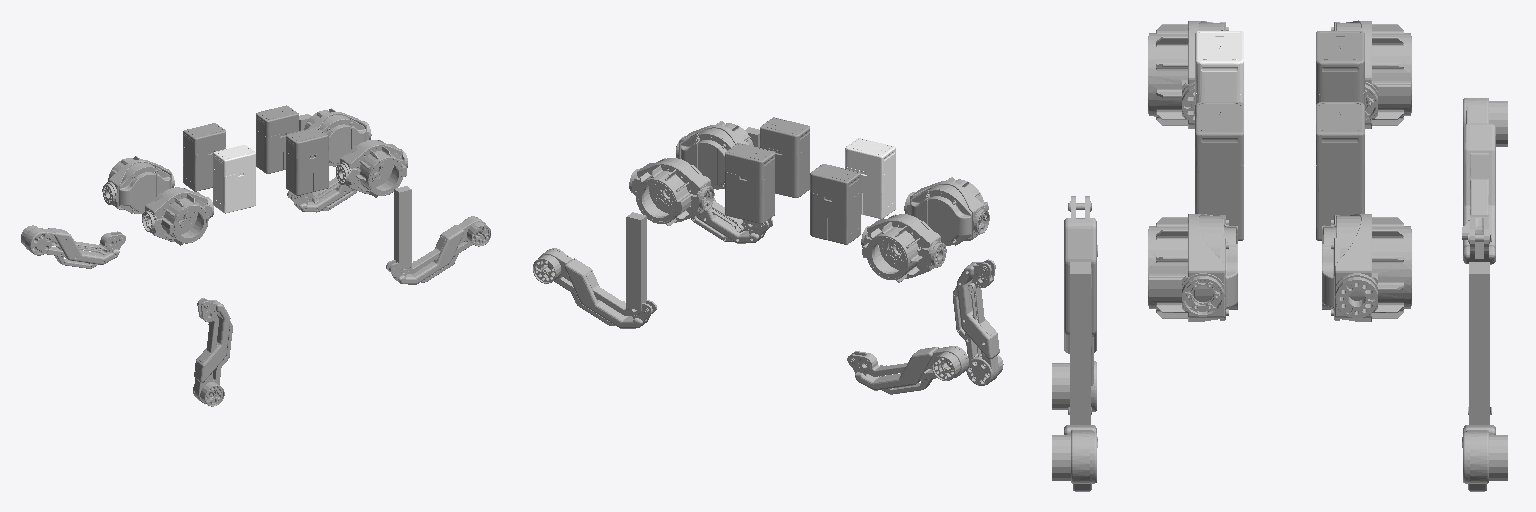
--- Facts derived from the render (not from the file) ---
The picture shows the robot from 3 angles, left to right: view 1: azimuth 30°, elevation 25°; view 2: azimuth 150°, elevation 25°; view 3: azimuth 270°, elevation 25°; orthographic projection.
Model titatit_robot_2 with 21 links and 20 joints (12 revolute, 8 fixed), rooted at base, posed joints at zero except 3 at the middle of their limits (FL_calf_joint = -1.81, FR_calf_joint = -1.81, RL_calf_joint = 1.81).
Visible links, largest first — view 1: FR_hip, RR_hip, RR_calf, RL_hip, FR_calf, RL_calf, FR_battery, RR_battery, FL_battery, RL_battery, FL_hip, FR_thigh (+1 smaller); view 2: RL_hip, FL_hip, RR_calf, RR_hip, FL_calf, RL_battery, RL_calf, FL_battery, RR_battery, FR_battery, FR_hip, FL_thigh (+1 smaller); view 3: FL_hip, FR_hip, RL_calf, FL_battery, FR_battery, RR_hip, RL_hip, RR_calf, RL_battery, RR_battery, FL_thigh, FR_thigh (+2 smaller).
Boxes of the visible links, left/top/right/bottom form: FR_hip: left=336, top=140, right=407, bottom=197; RR_hip: left=142, top=187, right=213, bottom=245; RR_calf: left=193, top=298, right=232, bottom=406; RL_hip: left=102, top=156, right=174, bottom=213; FR_calf: left=386, top=216, right=490, bottom=284; RL_calf: left=21, top=225, right=125, bottom=268; FR_battery: left=286, top=127, right=328, bottom=195; RR_battery: left=213, top=145, right=255, bottom=213; FL_battery: left=256, top=105, right=298, bottom=173; RL_battery: left=183, top=123, right=225, bottom=191; FL_hip: left=300, top=108, right=371, bottom=166; FR_thigh: left=394, top=186, right=411, bottom=269; RL_hip: left=861, top=214, right=946, bottom=282; FL_hip: left=629, top=158, right=714, bottom=225; RR_calf: left=953, top=259, right=1003, bottom=385; RR_hip: left=904, top=177, right=989, bottom=245; FL_calf: left=533, top=248, right=656, bottom=328; RL_battery: left=810, top=164, right=860, bottom=244; RL_calf: left=847, top=346, right=968, bottom=394; FL_battery: left=725, top=143, right=774, bottom=223; RR_battery: left=845, top=138, right=895, bottom=218; FR_battery: left=760, top=117, right=809, bottom=197; FR_hip: left=676, top=121, right=753, bottom=189; FL_thigh: left=626, top=212, right=646, bottom=310; FL_hip: left=1322, top=214, right=1411, bottom=321; FR_hip: left=1148, top=214, right=1237, bottom=321; RL_calf: left=1462, top=98, right=1507, bottom=264; FL_battery: left=1316, top=102, right=1364, bottom=240; FR_battery: left=1195, top=102, right=1243, bottom=240; RR_hip: left=1148, top=21, right=1228, bottom=128; RL_hip: left=1331, top=20, right=1411, bottom=128; RR_calf: left=1052, top=196, right=1097, bottom=411; RL_battery: left=1316, top=31, right=1364, bottom=104; RR_battery: left=1195, top=31, right=1243, bottom=104; FL_thigh: left=1469, top=262, right=1489, bottom=424; FR_thigh: left=1070, top=262, right=1090, bottom=424.
Size in the robot's own frame: 0.9799 by 0.5312 by 0.5448 metres.
12 mesh visuals loaded from 15 distinct referenced files (12 Collada DAE); not drawn: 3 (reference not matched to a file when rendering).

robot.urdf — titatit_robot_2:
<?xml version="1.0" encoding="utf-8"?>
<!-- This URDF was automatically created by SolidWorks to URDF Exporter! Originally created by Stephen Brawner ([email redacted]) 
     Commit Version: 1.6.0-4-g7f85cfe  Build Version: 1.6.7995.38578
     For more information, please see http://wiki.ros.org/sw_urdf_exporter -->
<robot
  name="titatit_robot_2">
  <link
    name="base">
    <inertial>
      <origin
        xyz="9.657E-05 4.946E-06 0.018311"
        rpy="0 0 0" />
      <mass
        value="26.085" />
      <inertia
        ixx="0.13241"
        ixy="-1.5238E-05"
        ixz="2.9159E-07"
        iyy="0.21427"
        iyz="3.83E-07"
        izz="0.29638" />
    </inertial>
    <visual>
      <origin
        xyz="0 0 0"
        rpy="0 0 0" />
      <geometry>
        <mesh
          filename="../meshes/dae/base.dae" />
      </geometry>
      <!-- <geometry>
        <box size="0.532 0.194 0.114"/>
      </geometry> -->
      <material
        name="">
        <color
          rgba="0.75294 0.75294 0.75294 1" />
      </material>
    </visual>
    <collision>
      <origin rpy="0 0 0" xyz="0 0 0"/>
      <geometry>
        <box size="0.532 0.194 0.114"/>
      </geometry>
    </collision>
  </link>
  <link
    name="FL_hip">
    <inertial>
        <origin xyz="0.00160252327437051 5.02529016259551E-05 0.000637997677409064" rpy="0 0 0" />
        <mass value="2.06397198838348" />
        <inertia ixx="0.0043043711277157" ixy="-1.3538484105872E-07" ixz="8.05398285601337E-05" iyy="0.00299819513265211" iyz="-1.54464162439579E-06" izz="0.00227034785673471" />
    </inertial>
    <visual>
      <origin
        xyz="0 0 0"
        rpy="1.57079632679 0 1.57079632679" />
      <geometry>
        <mesh
          filename="../meshes/dae/FL_hip.dae" />
      </geometry>
      <!-- <geometry>
        <box size="0.02 0.1426 0.02"/>
      </geometry> -->
      <material
        name="">
        <color
          rgba="0.752941176470588 0.752941176470588 0.752941176470588 1" />
      </material>
    </visual>
    <collision>
      <origin rpy="0 0 0" xyz="0 0.0713 0"/>
      <geometry>
        <box size="0.02 0.1426 0.02"/>
      </geometry>
    </collision>
  </link>
  <joint
    name="FL_hip_joint"
    type="revolute">
    <origin
      xyz="0.26556 0.0895 0"
      rpy="0 0 0" />
    <parent
      link="base" />
    <child
      link="FL_hip" />
    <axis
      xyz="1 0 0" />
<limit effort="100" lower="-0.8" upper="0.8" velocity="52.6"/>
  </joint>
  <link
    name="FL_thigh">
    <inertial>
        <origin xyz="0.00160252327437051 5.02529016259551E-05 0.000637997677409064" rpy="0 0 0" />
        <mass value="2.06397198838348" />
        <inertia ixx="0.0043043711277157" ixy="-1.3538484105872E-07" ixz="8.05398285601337E-05" iyy="0.00299819513265211" iyz="-1.54464162439579E-06" izz="0.00227034785673471" />
    </inertial>
    <visual>
      <origin rpy="0 1.57079632679 1.57079632679" xyz="0 0 0"/>
      <geometry>
        <mesh
          filename="../meshes/dae/FL_thigh.dae" />
      </geometry>
      <origin rpy="0 1.57079632679 0" xyz="0 0 -0.1"/>
      <geometry>
        <box size="0.2 0.0245 0.034"/>
      </geometry>
      <material
        name="">
        <color
          rgba="0.752941176470588 0.752941176470588 0.752941176470588 1" />
      </material>
    </visual>
    <collision>
      <origin rpy="0 1.57079632679 0" xyz="0 0 -0.1"/>
      <geometry>
        <box size="0.2 0.0245 0.034"/>
      </geometry>
    </collision>
  </link>
  <joint
    name="FL_thigh_joint"
    type="revolute">
    <origin rpy="0 0 0" xyz="0 0.1426 0"/>
    <parent link="FL_hip"/>
    <child link="FL_thigh"/>
    <axis xyz="0 1 0"/>
    <dynamics damping="0" friction="0"/>
    <limit effort="100" lower="-1.0471975512" upper="4.18879020479" velocity="28.6"/>
  </joint>
  <link
    name="FL_calf">
    <inertial>
      <origin xyz="0.00183801243684462 0.0116984049286687 -0.0953484729967358 " rpy="0 0 0" />
      <mass value="0.572442933713084" />
      <inertia izz="0.000305949337207612" iyz="0.000355368616376005" ixz="-0.000117644209339197" iyy="0.00320088994828871" ixy="1.12898419970661E-05" ixx="0.00342088883166828" />
    </inertial>
    <visual>
      <origin rpy="0 1.57079632679 1.57079632679" xyz="0 0 0"/>
      <geometry>
        <mesh
          filename="../meshes/dae/FL_calf.dae" />
      </geometry>
      <!-- <origin rpy="0 1.57079632679 0" xyz="0 0 -0.1"/>
      <geometry>
        <box size="0.2 0.016 0.016"/>
      </geometry> -->
      <material
        name="">
        <color
          rgba="0.752941176470588 0.752941176470588 0.752941176470588 1" />
      </material>
    </visual>
    <collision>
      <origin rpy="0 1.57079632679 0" xyz="0 0 -0.1"/>
      <geometry>
        <box size="0.2 0.016 0.016"/>
      </geometry>
    </collision>
  </link>
  <joint
    name="FL_calf_joint"
    type="revolute">
    <origin rpy="0 0 0" xyz="0 0 -0.2"/>
    <parent link="FL_thigh"/>
    <child link="FL_calf"/>
    <axis xyz="0 1 0"/>
    <dynamics damping="0" friction="0"/>
    <limit effort="100" lower="-2.69653369433" upper="-0.916297857297" velocity="28.6"/>
  </joint>
  <link
    name="FL_foot">
    <inertial>
      <origin
        xyz="0 0 0"
        rpy="0 0 0" />
      <mass
        value="0.004" />
      <inertia ixx="2.4e-05" ixy="0.0" ixz="0.0" iyy="2.4e-05" iyz="0.0" izz="2.4e-05"/>
    </inertial>
    <visual>
      <origin
        xyz="0 0 0"
        rpy="0 0 0" />
      <!-- <geometry>
        <mesh
          filename="../meshes/dae/FL_foot.dae" />
      </geometry> -->
      <geometry>
        <sphere radius="0.01"/>
      </geometry>
      <material
        name="">
        <color
          rgba="0.698039215686274 0.698039215686274 0.698039215686274 1" />
      </material>
    </visual>
    <collision>
      <origin rpy="0 0 0" xyz="0 0 0"/>
      <geometry>
        <sphere radius="0.02"/>
      </geometry>
    </collision>
  </link>
  <joint
    name="FL_foot_joint"
    type="fixed" dont_collapse="true">
    <origin
      xyz="0 0 -0.2"
      rpy="0 0 0" />
    <parent
      link="FL_calf" />
    <child
      link="FL_foot" />
    <axis
      xyz="0 0 -1" />
  </joint>
    <!-- <joint name="foot_joint_fl" type="fixed" dont_collapse="true">
    <origin rpy="0 0 -0.87266" xyz="0.2 0 0.0514"/>
    <parent link="FL_calf"/>
    <child link="FL_foot"/> -->
  <!-- </joint> -->
  <link
    name="FR_hip">
    <inertial>
      <origin xyz="0.00160252297910093 -5.02528763268312E-05 0.000638012238108419" rpy="0 0 0" />
      <mass value="2.06397190555531" />
      <inertia ixx="0.00430437092985315" ixy="1.35380384225143E-07" ixz="8.05396951733295E-05" iyy="0.00299819494811765" iyz="1.53586089418605E-06" izz="0.00227034789019073" />
    </inertial>
    <visual>
      <origin rpy="1.57079632679 0 -1.57079632679" xyz="0 0 0"/>
      <geometry>
        <mesh
          filename="../meshes/dae/FR_hip.dae" />
      </geometry>
      <!-- <origin rpy="0 0 0" xyz="0 -0.0713 0"/>
      <geometry>
        <box size="0.02 0.1426 0.02"/>
      </geometry> -->
      <material
        name="">
        <color
          rgba="0.752941176470588 0.752941176470588 0.752941176470588 1" />
      </material>
    </visual>
    <collision>
      <origin rpy="0 0 0" xyz="0 -0.0713 0"/>
      <geometry>
        <box size="0.02 0.1426 0.02"/>
      </geometry>
    </collision>
  </link>
  <joint
    name="FR_hip_joint"
    type="revolute">
    <origin
      xyz="0.26556 -0.0895 0"
      rpy="0 0 0" />
    <parent
      link="base" />
    <child
      link="FR_hip" />
    <axis
      xyz="1 0 0" />
<limit effort="100" lower="-0.8" upper="0.8" velocity="52.6"/>
  </joint>
  <link
    name="FR_thigh">
    <inertial>
        <origin xyz="0.0198087014081886 -0.000674482855501034 -0.0280301093531328" rpy="0 0 0" />
        <mass value="3.08319251948682" />
        <inertia ixx="0.00295324326282497" ixy="0.000104319176394184" ixz="8.03836095808116E-05" iyy="0.00650084021284014" iyz="-9.51221262655706E-06" izz="0.00882715494821773" />
    </inertial>
    <visual>
      <origin rpy="0 1.57079632679 -1.57079632679" xyz="0 0 0"/>
      <geometry>
        <mesh
          filename="../meshes/dae/FR_thigh.dae" />
      </geometry>
      <origin rpy="0 1.57079632679 0" xyz="0 0 -0.1"/>
      <geometry>
        <box size="0.2 0.0245 0.034"/>
      </geometry>
      <material
        name="">
        <color
          rgba="0.752941176470588 0.752941176470588 0.752941176470588 1" />
      </material>
    </visual>
    <collision>
      <origin rpy="0 1.57079632679 0" xyz="0 0 -0.1"/>
      <geometry>
        <box size="0.2 0.0245 0.034"/>
      </geometry>
    </collision>
  </link>
  <joint
    name="FR_thigh_joint"
    type="revolute">
    <origin rpy="0 0 0" xyz="0 -0.1426 0"/>
    <parent link="FR_hip"/>
    <child link="FR_thigh"/>
    <axis xyz="0 1 0"/>
    <dynamics damping="0" friction="0"/>
    <limit effort="100" lower="-1.0471975512" upper="4.18879020479" velocity="28.6"/>
  </joint>
  <link
    name="FR_calf">
    <inertial>
      <origin xyz="0.00183801243684462 -0.0116984049286687 -0.0953484729967358" rpy="0 0 0" />
      <mass value="0.572442933713084" />
      <inertia izz="0.000305949337207612" iyz="-0.000355368616376005" ixz="-0.000117644209339197" iyy="0.00320088994828871" ixy="-1.12898419970661E-05" ixx="0.00342088883166828" />
    </inertial>
    <visual>

      <origin rpy="0 1.57079632679 -1.57079632679" xyz="0 0 0"/>

      <geometry>
        <mesh
          filename="../meshes/dae/FR_calf.dae" />
      </geometry>
      <!-- <origin rpy="0 1.57079632679 0" xyz="0 0 -0.1"/>
      <geometry>
        <box size="0.2 0.016 0.016"/>
      </geometry> -->
      <material
        name="">
        <color
          rgba="0.752941176470588 0.752941176470588 0.752941176470588 1" />
      </material>
    </visual>
    <collision>
      <origin rpy="0 1.57079632679 0" xyz="0 0 -0.1"/>
      <geometry>
        <box size="0.2 0.016 0.016"/>
      </geometry>
    </collision>
  </link>
  <joint
    name="FR_calf_joint"
    type="revolute">
    <origin rpy="0 0 0" xyz="0 0 -0.2"/>
    <parent link="FR_thigh"/>
    <child link="FR_calf"/>
    <axis xyz="0 1 0"/>
    <dynamics damping="0" friction="0"/>
    <limit effort="100" lower="-2.69653369433" upper="-0.916297857297" velocity="28.6"/>
  </joint>
  <link
    name="FR_foot">
    <inertial>
      <origin
        xyz="-3.1517325252417E-07 2.84212870238498E-06 -0.000955954818488869"
        rpy="0 0 0" />
      <mass
        value="0.004" />
      <inertia ixx="2.4e-05" ixy="0.0" ixz="0.0" iyy="2.4e-05" iyz="0.0" izz="2.4e-05"/>
    </inertial>
    <visual>
      <origin
        xyz="0 0 0"
        rpy="0 0 0" />
      <!-- <geometry>
        <mesh
          filename="../meshes/dae/FR_foot.dae" />
      </geometry> -->
      <geometry>
        <sphere radius="0.01"/>
      </geometry>
      <material
        name="">
        <color
          rgba="0.698039215686274 0.698039215686274 0.698039215686274 1" />
      </material>
    </visual>
    <collision>
      <origin rpy="0 0 0" xyz="0 0 0"/>
      <geometry>
        <sphere radius="0.02"/>
      </geometry>
    </collision>
  </link>
  <joint
    name="FR_foot_joint"
    type="fixed" dont_collapse="true">
    <origin
      xyz="0 0 -0.2"
      rpy="0 0 0" />
    <parent
      link="FR_calf" />
    <child
      link="FR_foot" />
    <axis
      xyz="0 0 -1" />
  </joint>
      <!-- <joint name="foot_joint_fr" type="fixed" dont_collapse="true">
    <origin rpy="0 0 -0.87266" xyz="0.2 0 0.0514"/>
    <parent link="FR_calf"/>
    <child link="FR_foot"/>
  </joint> -->
  <link
    name="RL_hip">
    <inertial>
        <origin xyz="-0.00160252327437051 5.02529016259551E-05 0.000637997677409064" rpy="0 0 0" />
        <mass value="2.06397198838348" />
        <inertia ixx="0.0043043711277157" ixy="1.3538484105872E-07" ixz="-8.05398285601337E-05" iyy="0.00299819513265211" iyz="-1.54464162439579E-06" izz="0.00227034785673471" />
    </inertial>
    <visual>
      <origin
        xyz="0 0 0"
        rpy="1.57079632679 0 1.57079632679" />
      <geometry>
        <mesh
          filename="../meshes/dae/RL_hip.dae" />
      </geometry>
      <!-- <origin rpy="0 3.14159265359 0" xyz="0 0.0713 0"/>
      <geometry>
        <box size="0.02 0.1426 0.02"/>
      </geometry> -->
      <material
        name="">
        <color
          rgba="0.752941176470588 0.752941176470588 0.752941176470588 1" />
      </material>
    </visual>
    <collision>
      <origin rpy="0 3.14159265359 0" xyz="0 0.0713 0"/>
      <geometry>
        <box size="0.02 0.1426 0.02"/>
      </geometry>
    </collision>
  </link>
  <joint
    name="RL_hip_joint"
    type="revolute">
    <origin rpy="0 0 0" xyz="-0.26556 0.0895 0"/>
    <parent link="base"/>
    <child link="RL_hip"/>
    <axis xyz="1 0 0"/>
    <dynamics damping="0" friction="0"/>
    <limit effort="100" lower="-0.802851455917" upper="0.802851455917" velocity="52.4"/>
  </joint>
  <link
    name="RL_thigh">
    <inertial>
        <origin xyz="-0.0198087947770108 0.000674375301071346 -0.028030071953166" rpy="0 0 0" />
        <mass value="3.08318468505764" />
        <inertia ixx="0.00295323073173288" ixy="0.000104303195974061" ixz="-8.03870095692775E-05" iyy="0.00650084806449413" iyz="9.51050169384557E-06" izz="0.00882715478563661" />
    </inertial>
    <visual>
      <origin rpy="0 1.57079632679 1.57079632679" xyz="0 0 0"/>

      <geometry>
        <mesh
          filename="../meshes/dae/RL_thigh.dae" />
      </geometry>
      <!-- <origin rpy="0 1.57079632679 0" xyz="0 0 -0.1"/>
      <geometry>
        <box size="0.2 0.0245 0.034"/>
      </geometry> -->
      <material
        name="">
        <color
          rgba="0.752941176470588 0.752941176470588 0.752941176470588 1" />
      </material>
    </visual>
    <collision>
      <origin rpy="0 1.57079632679 0" xyz="0 0 -0.1"/>
      <geometry>
        <box size="0.2 0.0245 0.034"/>
      </geometry>
    </collision>
  </link>
  <joint
    name="RL_thigh_joint"
    type="revolute">
    <origin rpy="0 0 0" xyz="0 0.1426 0"/>
    <parent link="RL_hip"/>
    <child link="RL_thigh"/>
    <axis xyz="0 1 0"/>
    <dynamics damping="0" friction="0"/>
    <!-- <limit effort="100" lower="-1.0471975512" upper="4.18879020479" velocity="28.6"/> -->
    <limit effort="100" lower="-4.18879020479" upper="1.0471975512" velocity="28.6"/>
  </joint>
  <link
    name="RL_calf">
    <inertial>
        <origin xyz="-0.00183801243684462 0.0116984049286687 -0.0953484729967358" rpy="0 0 0" />
        <mass value="0.572442933713084" />
        <inertia izz="0.000305949337207612" iyz="0.000355368616376005" ixz="0.000117644209339197" iyy="0.00320088994828871" ixy="-1.12898419970661E-05" ixx="0.00342088883166828" />
    </inertial>
    <visual>
      <origin rpy="0 1.57079632679 1.57079632679" xyz="0 0 0"/>

      <geometry>
        <mesh
          filename="../meshes/dae/RL_calf.dae" />
      </geometry>

      <!-- <origin rpy="0 1.57079632679 0" xyz="0 0 -0.1"/>
      <geometry>
        <box size="0.2 0.016 0.016"/>
      </geometry> -->
      <material
        name="">
        <color
          rgba="0.752941176470588 0.752941176470588 0.752941176470588 1" />
      </material>
    </visual>
    <collision>
      <origin rpy="0 1.57079632679 0" xyz="0 0 -0.1"/>
      <geometry>
        <box size="0.2 0.016 0.016"/>
      </geometry>
    </collision>
  </link>
  <joint
    name="RL_calf_joint"
    type="revolute">
    <origin rpy="0 0 0" xyz="0 0 -0.2"/>
    <parent link="RL_thigh"/>
    <child link="RL_calf"/>
    <axis xyz="0 1 0"/>
    <dynamics damping="0" friction="0"/>
    <!-- <limit effort="100" lower="-2.69653369433" upper="-0.916297857297" velocity="28.6"/> -->
    <limit effort="100" lower="0.916297857297" upper="2.69653369433" velocity="28.6"/>
  </joint>
  <link
    name="RL_foot">
    <inertial>
      <origin
        xyz="3.15173430132099E-07 -2.84212862960986E-06 -0.000955954818523563"
        rpy="0 0 0" />
      <mass
        value="0.004" />
      <inertia ixx="2.4e-05" ixy="0.0" ixz="0.0" iyy="2.4e-05" iyz="0.0" izz="2.4e-05"/>
    </inertial>
    <visual>
      <origin
        xyz="0 0 0"
        rpy="0 0 0" />
      <!-- <geometry>
        <mesh
          filename="../meshes/dae/RL_foot.dae" />
      </geometry> -->
      <geometry>
        <sphere radius="0.01"/>
      </geometry>
      <material
        name="">
        <color
          rgba="0.698039215686274 0.698039215686274 0.698039215686274 1" />
      </material>
    </visual>
    <collision>
      <origin rpy="0 0 0" xyz="0 0 0"/>
      <geometry>
        <sphere radius="0.02"/>
      </geometry>
    </collision>
  </link>
  <joint
    name="RL_foot_joint"
    type="fixed" dont_collapse="true">
    <origin rpy="0 0 0" xyz="0 0 -0.2"/>
    <parent link="RL_calf"/>
    <child link="RL_foot"/>
  </joint>
      <!-- <joint name="foot_joint_rl" type="fixed" dont_collapse="true">
    <origin rpy="0 0 -0.87266" xyz="0.2 0 0.0514"/>
    <parent link="RL_calf"/>
    <child link="RL_foot"/>
  </joint> -->
  <link
    name="RR_hip">
    <inertial>
        <origin xyz="-0.00160252297910093 -5.02528763268312E-05 0.000638012238108419" rpy="0 0 0" />
        <mass value="2.06397190555531" />
        <inertia ixx="0.00430437092985315" ixy="-1.35380384225143E-07" ixz="-8.05396951733295E-05" iyy="0.00299819494811765" iyz="1.53586089418605E-06" izz="0.00227034789019073" />
    </inertial>
    <visual>
      <origin rpy="1.57079632679 0 -1.57079632679" xyz="0 0 0"/>
      <geometry>
        <mesh
          filename="../meshes/dae/RR_hip.dae" />
      </geometry>
      <!-- <origin
        xyz="0 -0.0713 0"
        rpy="0 0 0" />
      <geometry>
        <box size="0.02 0.1426 0.02"/>
      </geometry> -->
      <material
        name="">
        <color
          rgba="0.752941176470588 0.752941176470588 0.752941176470588 1" />
      </material>
    </visual>
    <collision>
      <origin
        xyz="0 -0.0713 0"
        rpy="0 0 0" />
      <geometry>
        <box size="0.02 0.1426 0.02"/>
      </geometry>
    </collision>
  </link>
  <joint
    name="RR_hip_joint"
    type="revolute">
    <origin rpy="0 0 0" xyz="-0.26519 -0.0895 0"/>
    <parent link="base"/>
    <child link="RR_hip"/>
    <axis xyz="1 0 0"/>
    <dynamics damping="0" friction="0"/>
    <limit effort="55" lower="-0.802851455917" upper="0.802851455917" velocity="52.4"/>
  </joint>
  <link
    name="RR_thigh">
    <inertial>
        <origin xyz="-0.0198087014081886 -0.000674482855501034 -0.0280301093531328" rpy="0 0 0" />
        <mass value="3.08319251948682" />
        <inertia ixx="0.00295324326282497" ixy="-0.000104319176394184" ixz="-8.03836095808116E-05" iyy="0.00650084021284014" iyz="-9.51221262655706E-06" izz="0.00882715494821773" />
    </inertial>
    <visual>
      <origin rpy="0 1.57079632679 -1.57079632679" xyz="0 0 0"/>

      <geometry>
        <mesh
          filename="../meshes/dae/RR_thigh.dae" />
      </geometry>
<!-- 
      <origin rpy="0 1.57079632679 0" xyz="0 0 -0.1"/>
      <geometry>
        <box size="0.2 0.0245 0.034"/>
      </geometry> -->
      <material
        name="">
        <color
          rgba="0.752941176470588 0.752941176470588 0.752941176470588 1" />
      </material>
    </visual>
    <collision>
      <origin rpy="0 1.57079632679 0" xyz="0 0 -0.1"/>
      <geometry>
        <box size="0.2 0.0245 0.034"/>
      </geometry>
    </collision>
  </link>
  <joint
    name="RR_thigh_joint"
    type="revolute">
    <origin rpy="0 0 0" xyz="0 -0.1426 0"/>
    <parent link="RR_hip"/>
    <child link="RR_thigh"/>
    <axis xyz="0 1 0"/>
    <dynamics damping="0" friction="0"/>
    <!-- <limit effort="100" lower="-1.0471975512" upper="4.18879020479" velocity="28.6"/> -->
    <limit effort="100" lower="-4.18879020479" upper="1.0471975512" velocity="28.6"/>
  </joint>
  <link
    name="RR_calf">
    <inertial>
      <origin xyz="-0.00183801243684462 -0.0116984049286687 -0.0953484729967358" rpy="0 0 0" />
      <mass value="0.572442933713084" />
      <inertia izz="0.000305949337207612" iyz="-0.000355368616376005" ixz="0.000117644209339197" iyy="0.00320088994828871" ixy="1.12898419970661E-05" ixx="0.00342088883166828" />
    </inertial>
    <visual>
      <origin rpy="0 1.57079632679 -1.57079632679" xyz="0 0 0"/>
      <geometry>
        <mesh
          filename="../meshes/dae/RR_calf.dae" />
      </geometry>
      <!-- <origin rpy="0 1.57079632679 0" xyz="0 0 -0.1"/>
      <geometry>
        <box size="0.2 0.016 0.016"/>
      </geometry> -->
      <material
        name="">
        <color
          rgba="0.752941176470588 0.752941176470588 0.752941176470588 1" />
      </material>
    </visual>
    <collision>
      <origin rpy="0 1.57079632679 0" xyz="0 0 -0.1"/>
      <geometry>
        <box size="0.2 0.016 0.016"/>
      </geometry>
    </collision>
  </link>
  <joint
    name="RR_calf_joint"
    type="revolute">
    <origin rpy="0 0 0" xyz="0 0 -0.2"/>
    <parent link="RR_thigh"/>
    <child link="RR_calf"/>
    <axis xyz="0 1 0"/>
    <dynamics damping="0" friction="0"/>
    <!-- <limit effort="100" lower="-2.69653369433" upper="-0.916297857297" velocity="28.6"/> -->
        <limit effort="100" lower="-0.916297857297" upper="2.69653369433" velocity="28.6"/>
  </joint>
  <link
    name="RR_foot">
    <inertial>
      <origin
        xyz="0 0 0"
        rpy="0 0 0" />
      <mass
        value="0.004" />
      <inertia ixx="2.4e-05" ixy="0.0" ixz="0.0" iyy="2.4e-05" iyz="0.0" izz="2.4e-05"/>
    </inertial>
    <visual>
      <origin
        xyz="0 0 0"
        rpy="0 0 0" />
      <!-- <geometry>
        <mesh
          filename="../meshes/dae/RR_foot.dae" />
      </geometry> -->
      <geometry>
        <sphere radius="0.01"/>
      </geometry>
      <material
        name="">
        <color
          rgba="0.698039215686274 0.698039215686274 0.698039215686274 1" />
      </material>
    </visual>
    <collision>
      <origin rpy="0 0 0" xyz="0 0 0"/>
      <geometry>
        <sphere radius="0.02"/>
      </geometry>
    </collision>
  </link>
  <joint
    name="RR_foot_joint"
    type="fixed" dont_collapse="true">
    <origin rpy="0 0 0" xyz="0 0 -0.2"/>
    <parent link="RR_calf"/>
    <child link="RR_foot"/>
  </joint>
  <link
    name="FL_battery">
    <inertial>
      <origin
        xyz="0.00062777 2.6528E-05 0.04828"
        rpy="0 0 0" />
      <mass
        value="0.86022" />
      <inertia
        ixx="0.0007079"
        ixy="1.7921E-09"
        ixz="-4.4298E-08"
        iyy="0.0010264"
        iyz="-7.8339E-07"
        izz="0.00076657" />
    </inertial>
    <visual>
      <origin
        xyz="0 0 0.001"
        rpy="0 0 0" />
      <geometry>
        <mesh
          filename="../meshes/dae/FL_battery.dae" />
      </geometry>
      <!-- <geometry>
        <box size="0.05 0.02 0.03"/>
      </geometry>     -->
      <material
        name="">
        <color
          rgba="0.69804 0.69804 0.69804 1" />
      </material>
    </visual>
    <collision>
      <origin
        xyz="0 0 0.001"
        rpy="0 0 0" />
      <!-- <geometry>
        <mesh
          filename="../meshes/dae/FL_battery.dae" />
      </geometry> -->
      <geometry>
        <box size="0.05 0.02 0.03"/>
      </geometry>
    </collision>
  </link>
  <joint
    name="battery_joint_fl"
    type="fixed">
    <origin
      xyz="0.09775 0.07 0"
      rpy="0 0 0" />
    <parent
      link="base" />
    <child
      link="FL_battery" />
    <axis
      xyz="0 0 0" />
  </joint>
  <link
    name="FR_battery">
    <inertial>
      <origin
        xyz="0.00062778 2.6525E-05 0.04828"
        rpy="0 0 0" />
      <mass
        value="0.86022" />
      <inertia
        ixx="0.0007079"
        ixy="2.1922E-09"
        ixz="-4.4302E-08"
        iyy="0.0010264"
        iyz="-7.8339E-07"
        izz="0.00076657" />
    </inertial>
    <visual>
      <origin
        xyz="0 0 0.001"
        rpy="0 0 0" />
      <geometry>
        <mesh
          filename="../meshes/dae/FR_battery.dae" />
      </geometry>
            <!-- <geometry>
        <box size="0.05 0.02 0.03"/>
      </geometry> -->
      <material
        name="">
        <color
          rgba="0.69804 0.69804 0.69804 1" />
      </material>
    </visual>
    <collision>
      <origin
        xyz="0 0 0.001"
        rpy="0 0 0" />
      <!-- <geometry>
        <mesh
          filename="../meshes/dae/FR_battery.dae" />
      </geometry> -->
            <geometry>
        <box size="0.05 0.02 0.03"/>
      </geometry>
    </collision>
  </link>
  <joint
    name="battery_joint_fr"
    type="fixed">
    <origin
      xyz="0.09775 -0.07 0"
      rpy="0 0 0" />
    <parent
      link="base" />
    <child
      link="FR_battery" />
    <axis
      xyz="0 0 0" />
  </joint>
  <link
    name="RL_battery">
    <inertial>
      <origin
        xyz="0.00062778 2.6525E-05 0.04828"
        rpy="0 0 0" />
      <mass
        value="0.86022" />
      <inertia
        ixx="0.0007079"
        ixy="2.1922E-09"
        ixz="-4.4302E-08"
        iyy="0.0010264"
        iyz="-7.8339E-07"
        izz="0.00076657" />
    </inertial>
    <visual>
      <origin
        xyz="0 0 0.001"
        rpy="0 0 0" />
      <geometry>
        <mesh
          filename="../meshes/dae/RL_battery.dae" />
      </geometry>
            <!-- <geometry>
        <box size="0.05 0.02 0.03"/>
      </geometry> -->
      <material
        name="">
        <color
          rgba="0.698039215686274 0.698039215686274 0.698039215686274 1" />
      </material>
    </visual>
    <collision>
      <origin
        xyz="0 0 0.001"
        rpy="0 0 0" />
      <!-- <geometry>
        <mesh
          filename="../meshes/dae/RL_battery.dae" />
      </geometry> -->
            <geometry>
        <box size="0.05 0.02 0.03"/>
      </geometry>
    </collision>
  </link>
  <joint
    name="battery_joint_rl"
    type="fixed">
    <origin
      xyz="-0.09775 0.07 0"
      rpy="0 0 0" />
    <parent
      link="base" />
    <child
      link="RL_battery" />
    <axis
      xyz="0 0 0" />
  </joint>
  <link
    name="RR_battery">
    <inertial>
      <origin
        xyz="0.00062778 2.6525E-05 0.04828"
        rpy="0 0 0" />
      <mass
        value="0.86022" />
      <inertia
        ixx="0.0007079"
        ixy="2.1922E-09"
        ixz="-4.4302E-08"
        iyy="0.0010264"
        iyz="-7.8339E-07"
        izz="0.00076657" />
    </inertial>
    <visual>
      <origin
        xyz="0 0 0.001"
        rpy="0 0 0" />
      <geometry>
        <mesh
          filename="../meshes/dae/RR_battery.dae" />
      </geometry>
      <!-- <geometry>
        <box size="0.05 0.02 0.03"/>
      </geometry> -->
      <material
        name="">
        <color
          rgba="1 1 1 1" />
      </material>
    </visual>
    <collision>
      <origin
        xyz="0 0 0.001"
        rpy="0 0 0" />
      <!-- <geometry>
        <mesh
          filename="../meshes/dae/RR_battery.dae" />
      </geometry> -->
            <geometry>
        <box size="0.05 0.02 0.03"/>
      </geometry>
    </collision>
  </link>
  <joint
    name="battery_joint_rr"
    type="fixed">
    <origin
      xyz="-0.09775 -0.07 0"
      rpy="0 0 0" />
    <parent
      link="base" />
    <child
      link="RR_battery" />
    <axis
      xyz="0 0 0" />
  </joint>
</robot>
